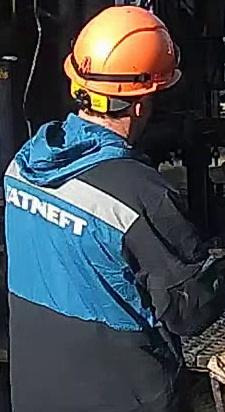helmet: (62, 4, 182, 99)
vest: (0, 129, 207, 412)
